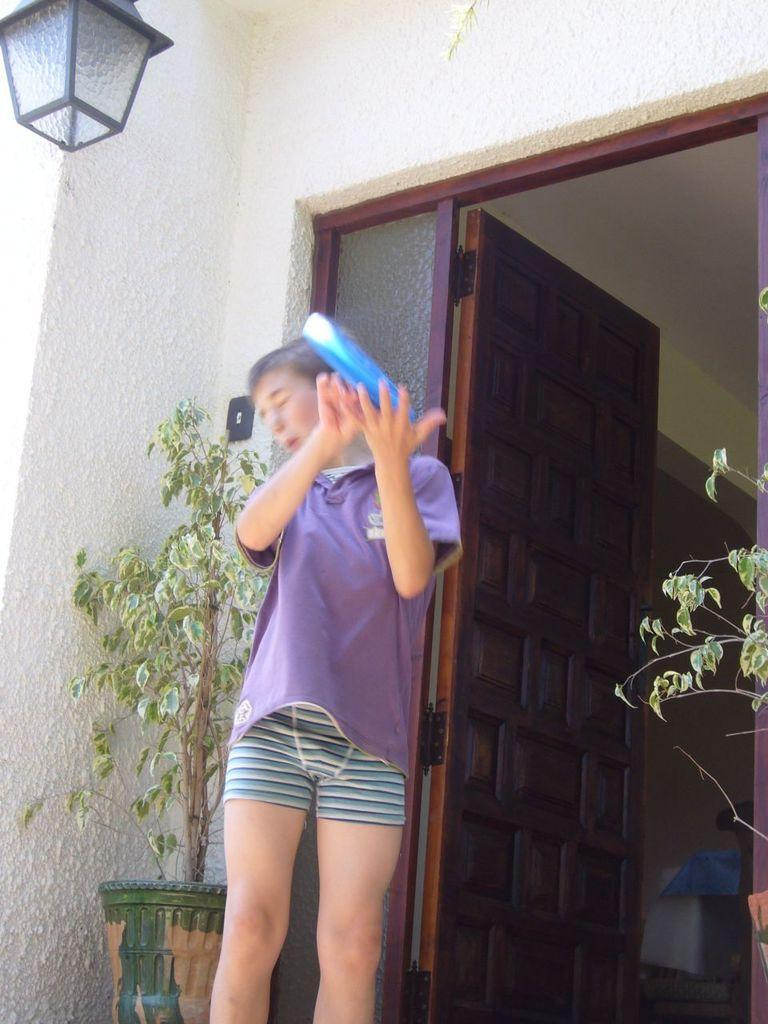door: (472, 215, 628, 1021)
